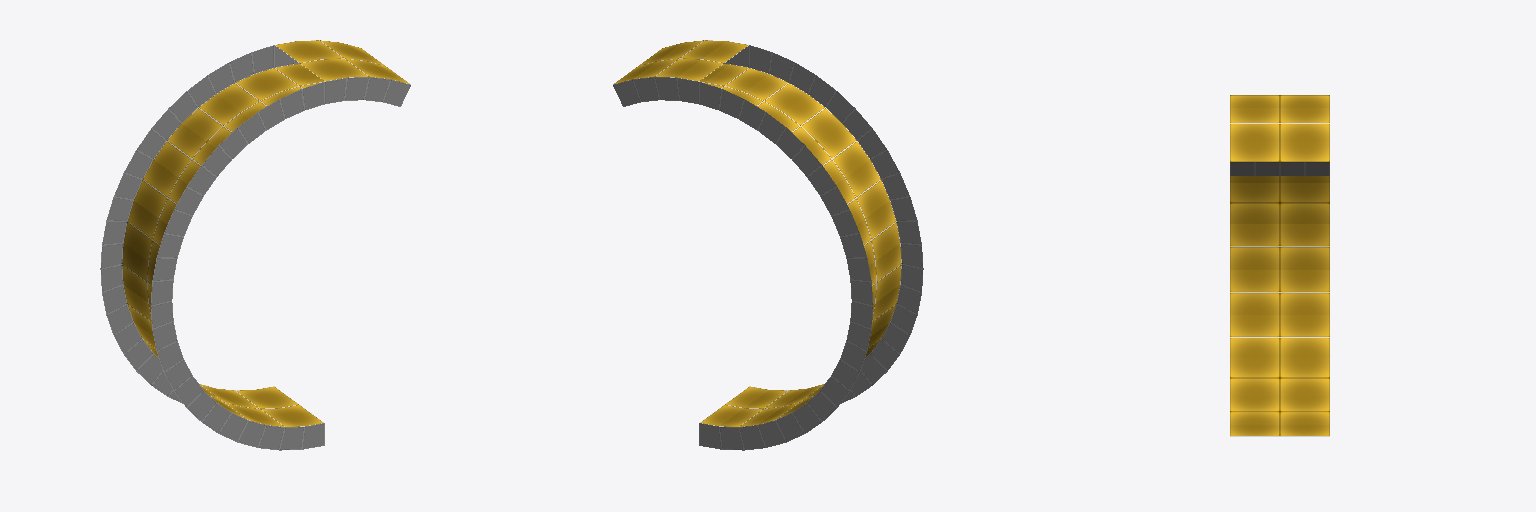
3 views of the same model, side by side, from view 1: azimuth 30°, elevation 25°; view 2: azimuth 150°, elevation 25°; view 3: azimuth 270°, elevation 25° (orthographic).
Parts seen in each view (by area): view 1: RevealingTheGemCurve2; view 2: RevealingTheGemCurve2; view 3: RevealingTheGemCurve2.
Part boxes in pixels (bbox=[...]): RevealingTheGemCurve2: bbox=[100, 40, 410, 450]; RevealingTheGemCurve2: bbox=[613, 40, 923, 450]; RevealingTheGemCurve2: bbox=[1230, 95, 1329, 436].
Bounding box in the file's own units: 12 × 16 × 4.
Materials: 2 (2 with a texture image).